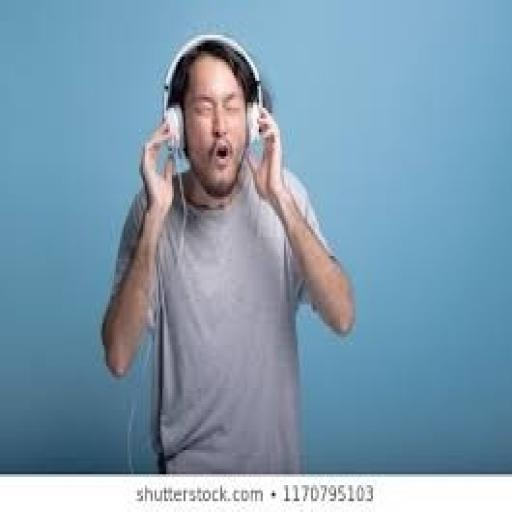listening_to_music: (98, 30, 358, 474)
